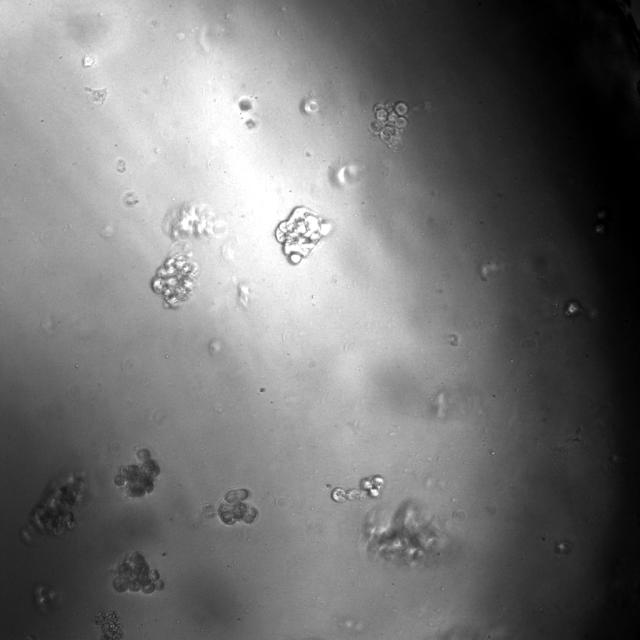organoid: (362, 498, 455, 569), (21, 472, 84, 542), (275, 206, 331, 264), (151, 242, 199, 308), (164, 202, 227, 240), (113, 447, 160, 497), (111, 552, 164, 594), (369, 102, 408, 148), (331, 475, 383, 503), (218, 488, 257, 524), (32, 583, 62, 614), (93, 611, 122, 639)
